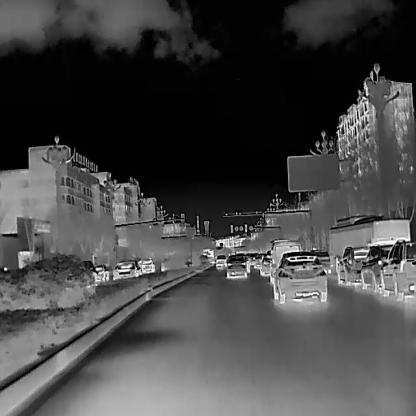bus: (328, 216, 410, 275)
car: (272, 251, 326, 303), (377, 238, 415, 300), (359, 242, 394, 290), (335, 245, 374, 286), (269, 238, 300, 284), (65, 259, 96, 289), (111, 260, 140, 279), (225, 254, 246, 277), (94, 263, 108, 281), (259, 252, 270, 274), (140, 258, 154, 273), (214, 254, 227, 269), (252, 253, 261, 268)
truck: (201, 246, 214, 266)
